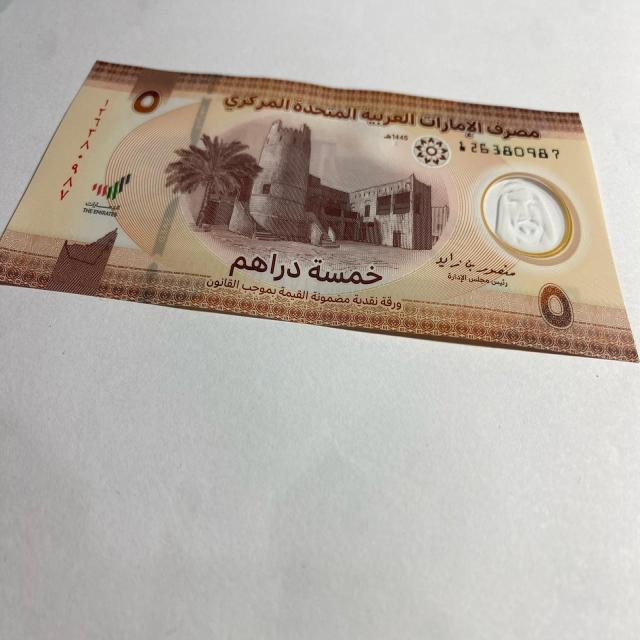5_AED: (0, 56, 640, 361)
